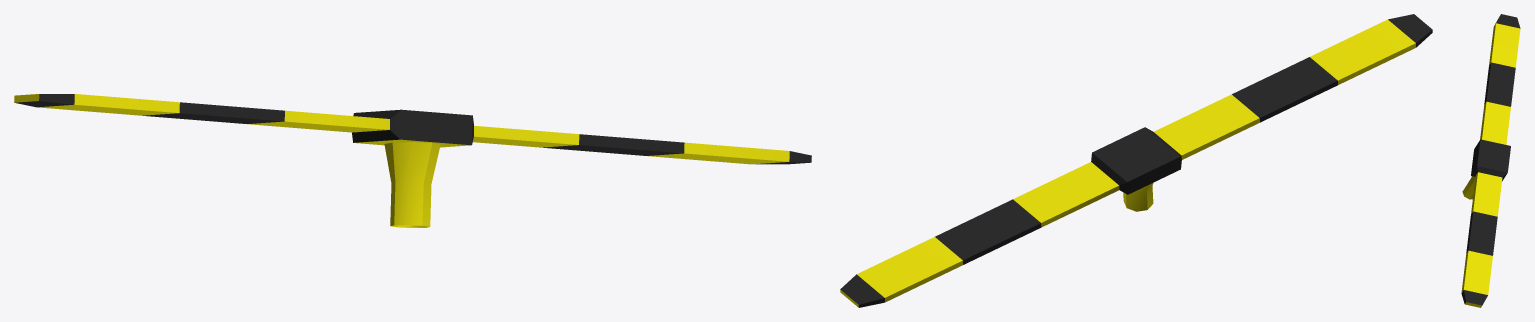
File: drone_costum_Cube.002.fbx
3 views of the same model, side by side, from view 1: azimuth 30°, elevation 25°; view 2: azimuth 210°, elevation 25°; view 3: azimuth 270°, elevation 25° (orthographic). The views are drawn at different scales.
Parts seen in each view (by area): view 1: drone_costum_Cube_002; view 2: drone_costum_Cube_002; view 3: drone_costum_Cube_002.
Boxes of the visible parts, x1,y1,x2,y2 form: drone_costum_Cube_002: [14, 94, 811, 227]; drone_costum_Cube_002: [840, 14, 1432, 307]; drone_costum_Cube_002: [1461, 14, 1520, 307].
Size of the model in its own units: 790 by 235 by 108.
